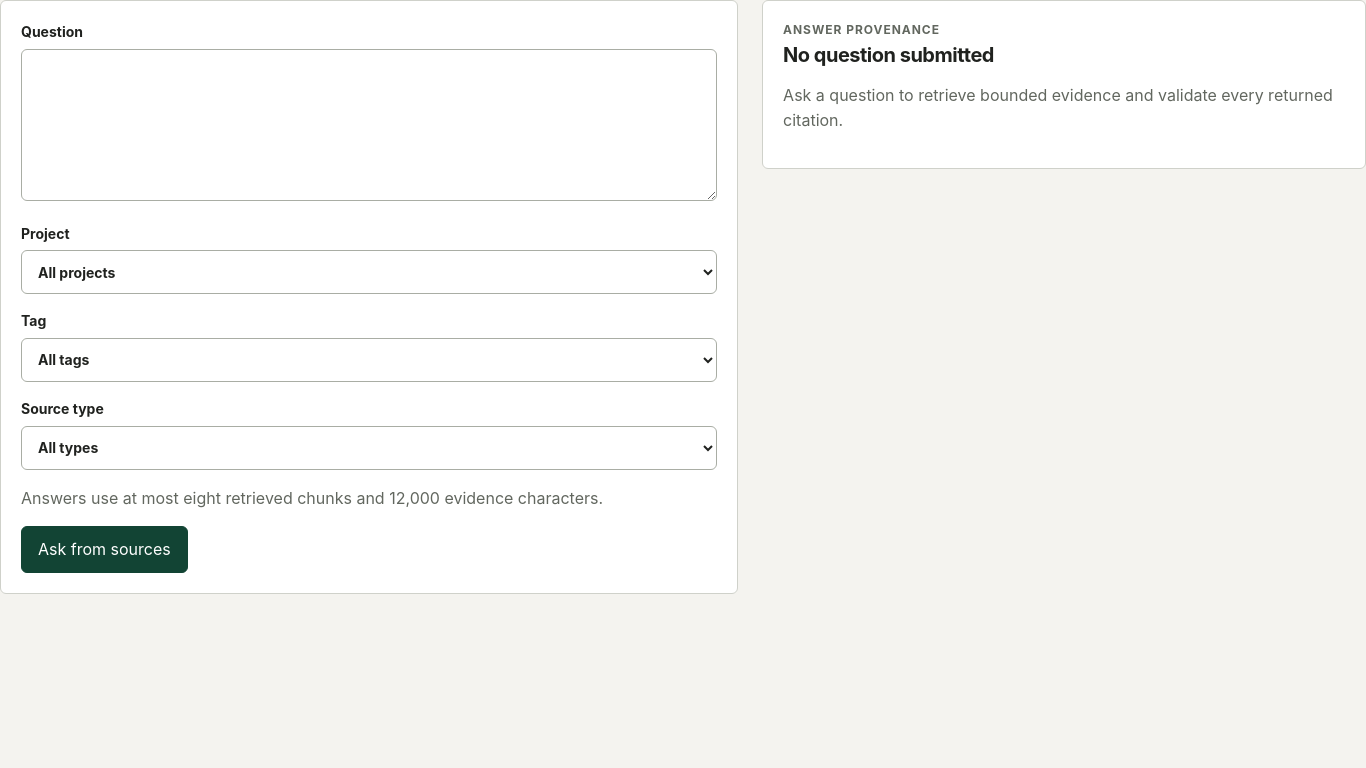
AskView › renders grounded statements, exact citations, and an inactive proposal
Type "What?" into the text box labelled "Question" at (369, 125), box 21,49 -> 717,201
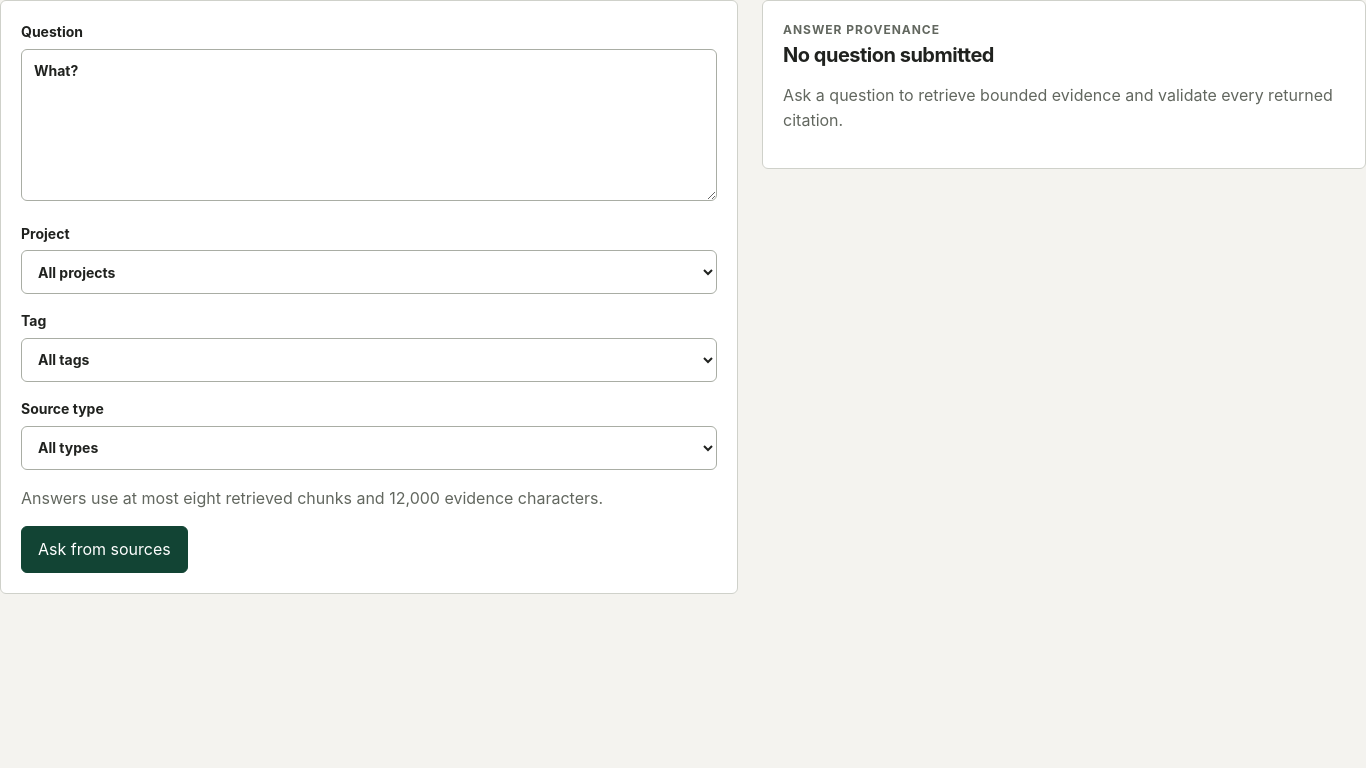
Click the button "Ask from sources" at (104, 550), box 21,526 -> 188,573
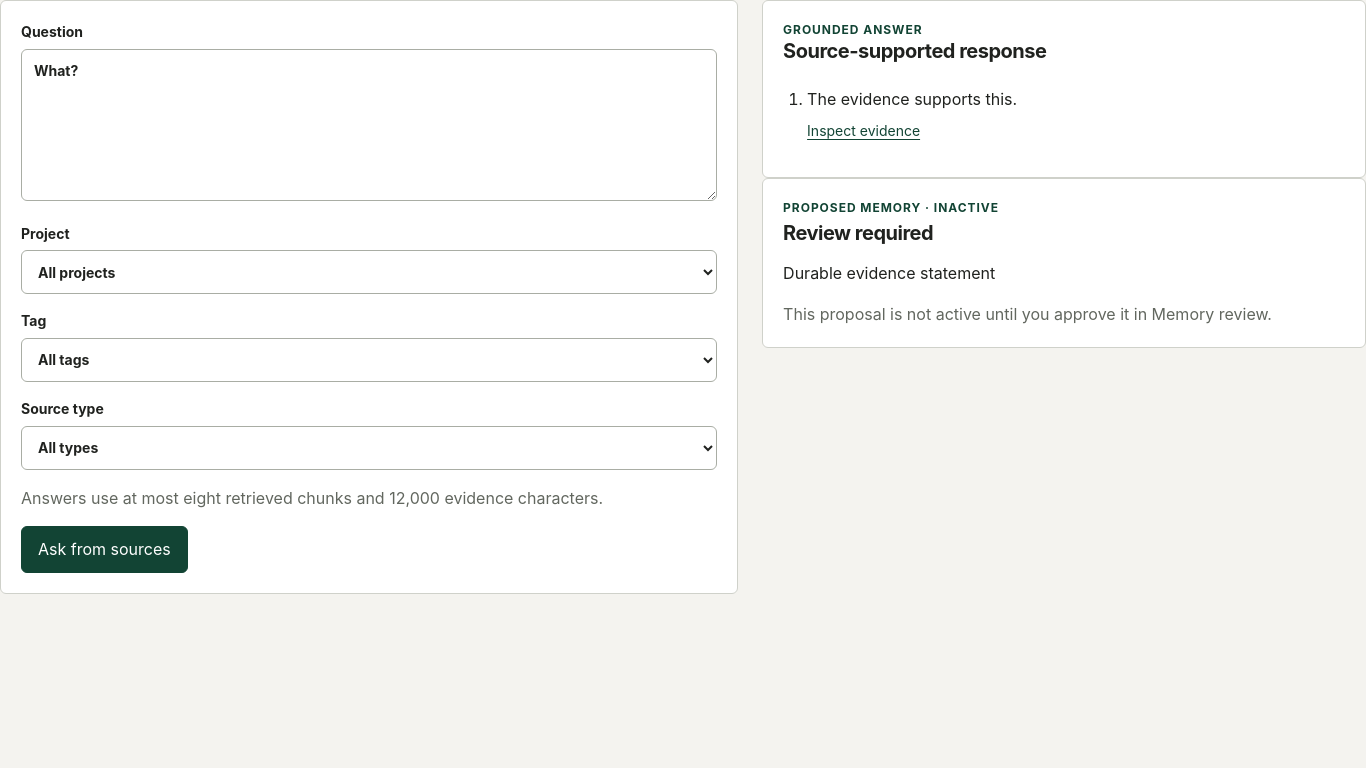
Check: the text "The evidence supports this." is shown, box 807,89 -> 1017,109
Check: the text "Proposed memory · inactive" is shown, box 783,200 -> 999,215
